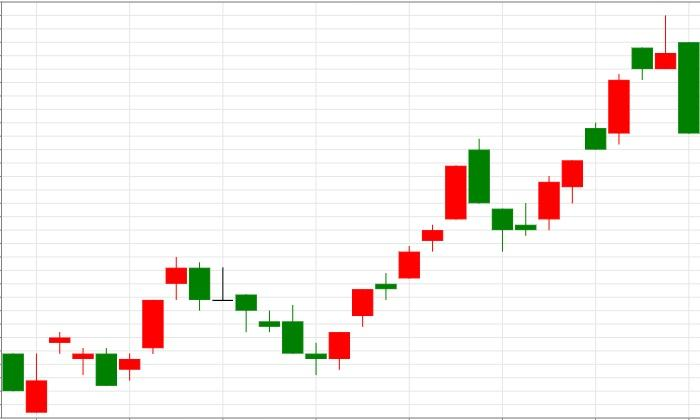morning_star_rise: (165, 257, 351, 375)
shooting_star_fall: (491, 16, 677, 252)
three_white_soldiers_rise: (49, 257, 188, 386)
